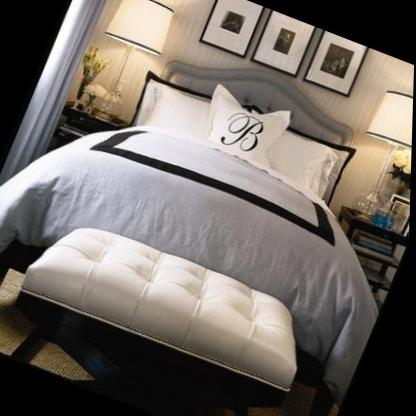Bed: (0, 73, 380, 404)
